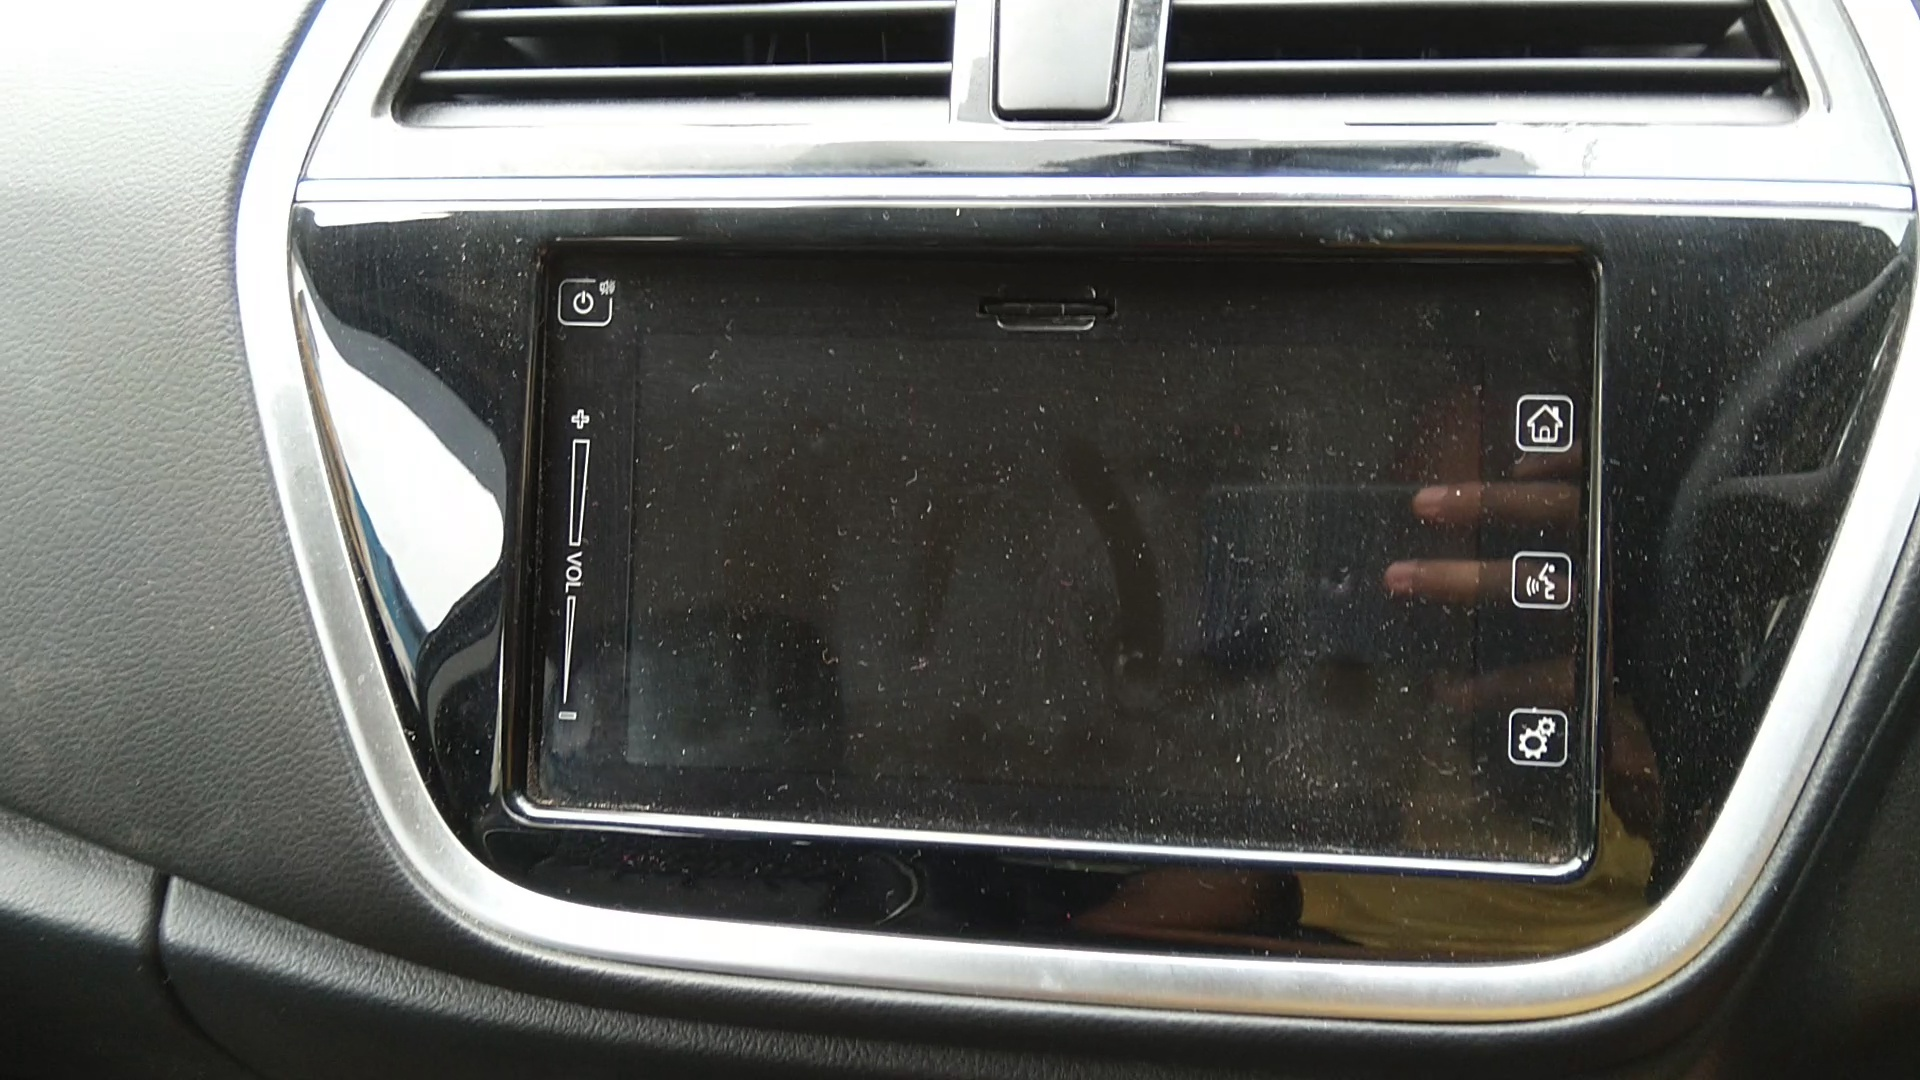touch_infotainment: (496, 227, 1625, 897)
